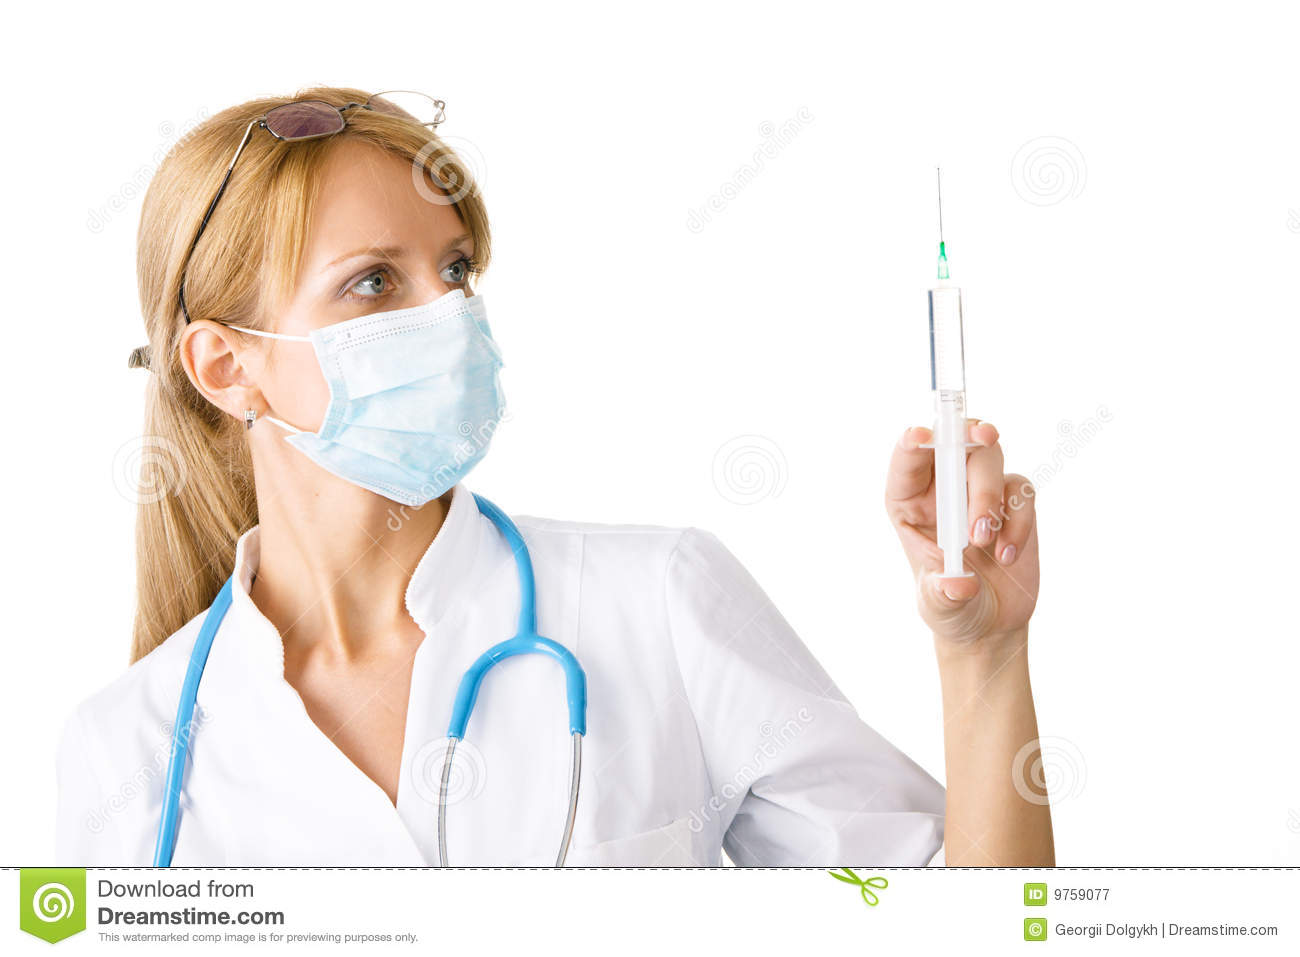mask: (320, 305, 514, 513)
